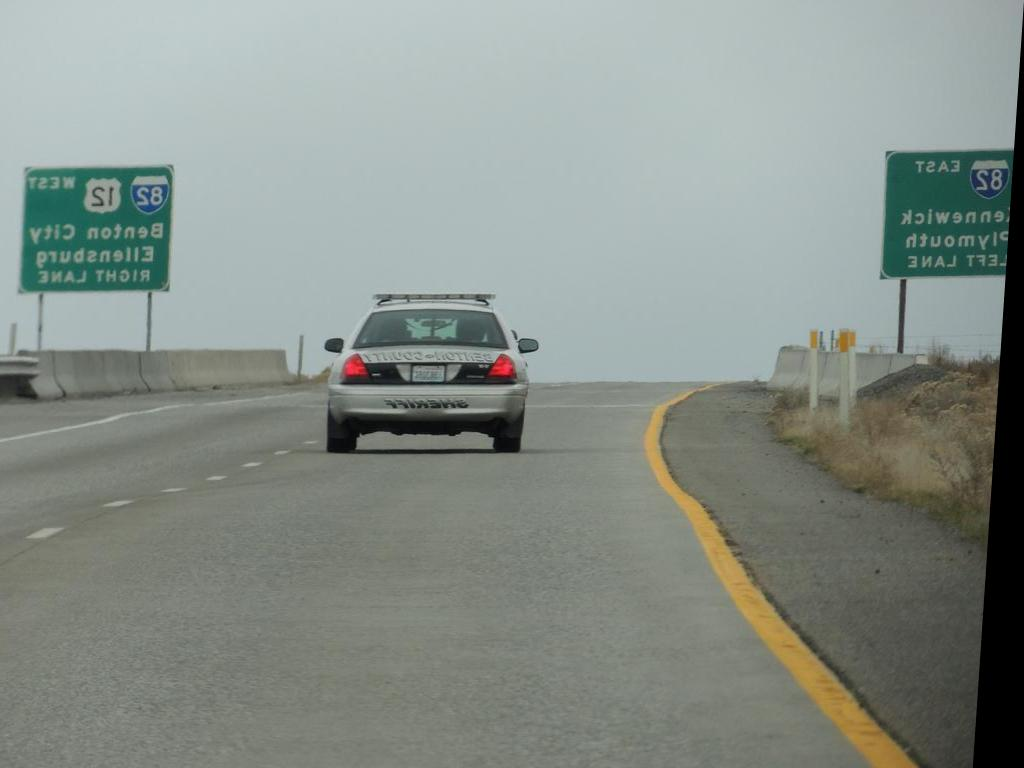License_Plate: (409, 363, 448, 383)
